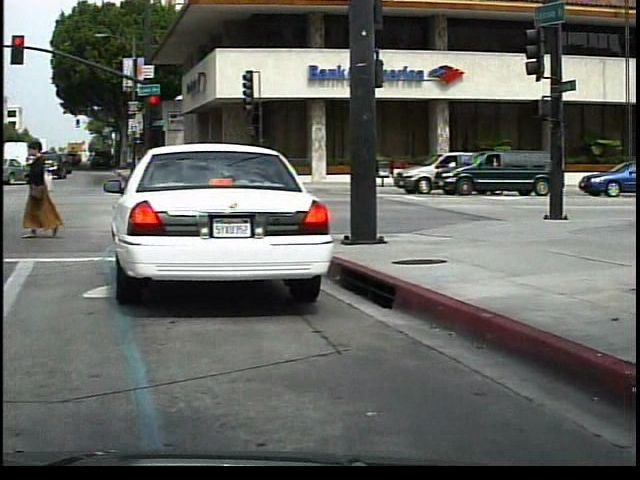person: (19, 136, 73, 242)
